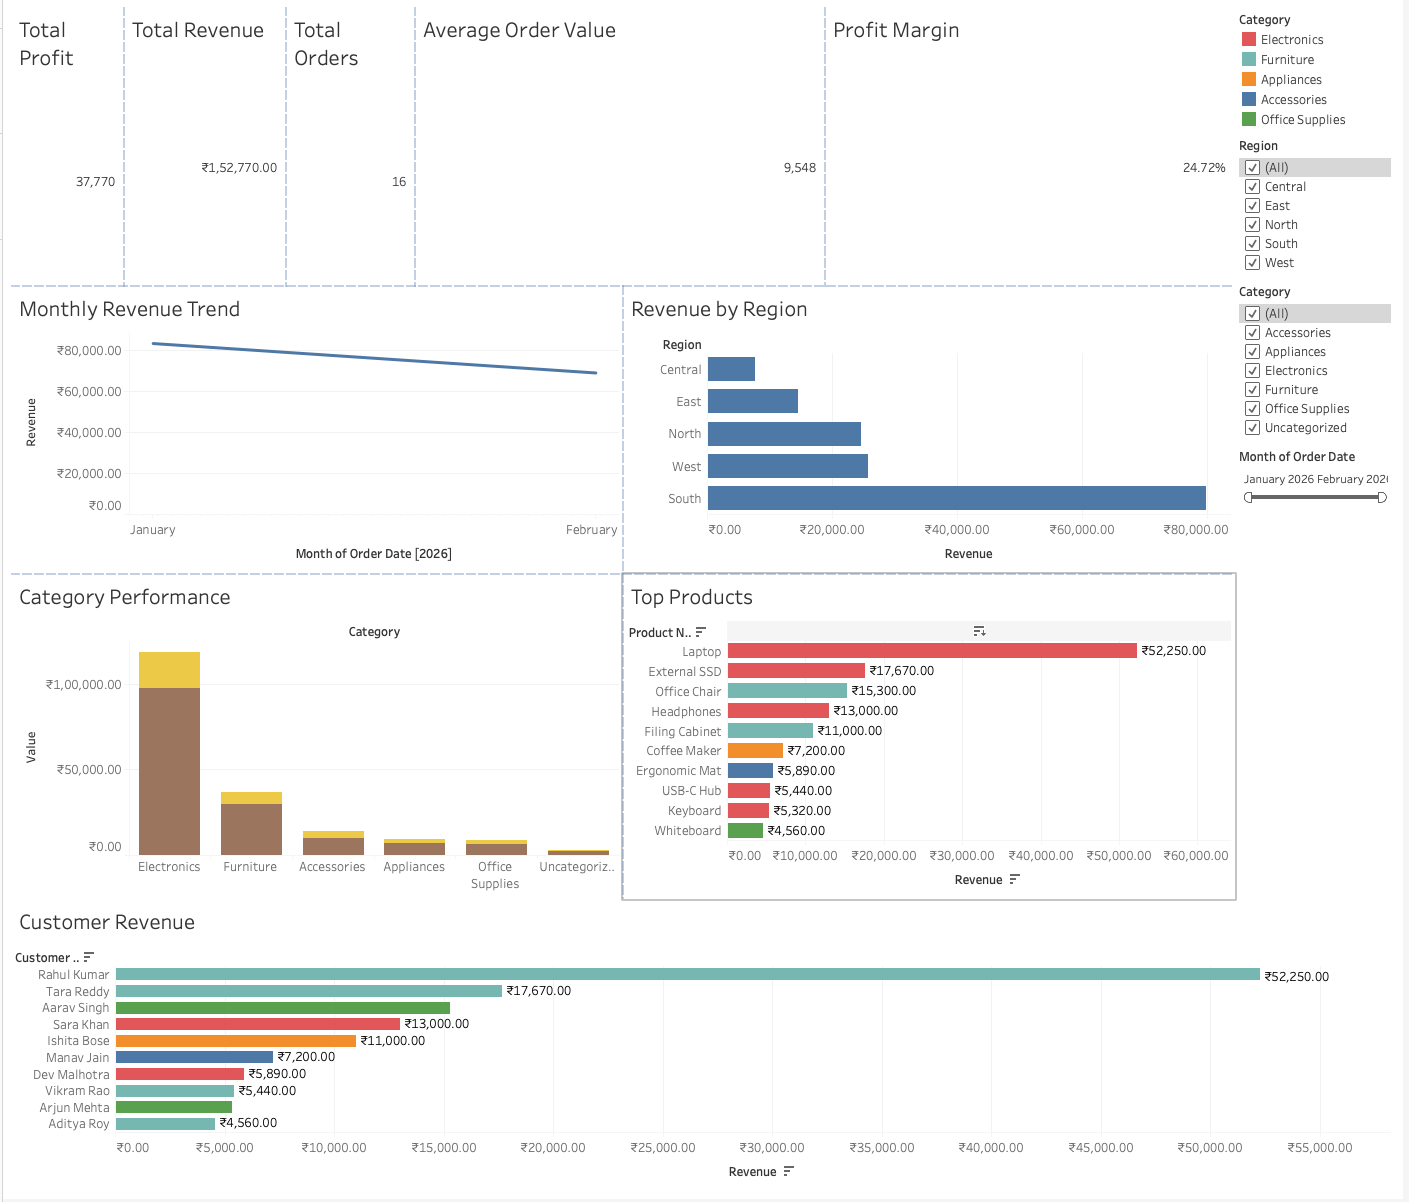

What the dashboard file says about the page in this screenshot:
{"tool":"tableau","page":{"name":"Sales Analytics Dashboard","canvas":[1400,1200],"ordinal":0},"visuals":[{"type":"worksheet","title":"Total Profit","mark":"Automatic","box":[8,8,113.2,279.5]},{"type":"worksheet","title":"Total Revenue","mark":"Automatic","box":[121.2,8,161.7,279.5]},{"type":"worksheet","title":"Total Orders","mark":"Automatic","box":[282.9,8,129.4,279.5]},{"type":"worksheet","title":"Average Order Value","mark":"Automatic","box":[412.3,8,409.9,279.5]},{"type":"worksheet","title":"Profit Margin","mark":"Automatic","box":[822.1,8,409.9,279.5]},{"type":"legend","title":"Top Products","param":"[federated.0lyqzue10ufyjs126acsf0x3rjmx].[none:Category:nk]","box":[1232,8,160,126]},{"type":"filter","title":"Revenue by Region","param":"[federated.0lyqzue10ufyjs126acsf0x3rjmx].[none:Region:nk]","box":[1232,134,160,146]},{"type":"filter","title":"Category Performance","param":"[federated.0lyqzue10ufyjs126acsf0x3rjmx].[none:Category:nk]","box":[1232,280,160,165]},{"type":"worksheet","title":"Monthly Revenue Trend","mark":"Line","rows":["Revenue"],"cols":["Order_Date"],"box":[8,287.5,612,287.1]},{"type":"worksheet","title":"Revenue by Region","mark":"Bar","rows":["Region"],"cols":["Revenue"],"box":[620,287.5,612,287.1]},{"type":"filter","title":"Monthly Revenue Trend","param":"[federated.0lyqzue10ufyjs126acsf0x3rjmx].[tmn:Order_Date:qk]","box":[1232,445,160,231]},{"type":"worksheet","title":"Category Performance","mark":"Bar","cols":["Category"],"box":[8,574.6,612,325.4]},{"type":"worksheet","title":"Top Products","mark":"Bar","rows":["Product_Name"],"cols":["Revenue"],"box":[620,574.6,612,325.4]},{"type":"worksheet","title":"Customer Revenue","mark":"Bar","rows":["Customer_Name"],"cols":["Revenue"],"box":[8,900,1384,292]}]}

Visuals, with their boxes in screenshot pixels (x1, y1, x2, y2), scaled from the page's 1400x1200 canvas onto the 1409x1202 screenshot:
"Total Profit" worksheet: select_region(8, 8, 122, 288)
"Total Revenue" worksheet: select_region(122, 8, 285, 288)
"Total Orders" worksheet: select_region(285, 8, 415, 288)
"Average Order Value" worksheet: select_region(415, 8, 827, 288)
"Profit Margin" worksheet: select_region(827, 8, 1240, 288)
"Top Products" legend: select_region(1240, 8, 1401, 134)
"Revenue by Region" filter: select_region(1240, 134, 1401, 280)
"Category Performance" filter: select_region(1240, 280, 1401, 446)
"Monthly Revenue Trend" worksheet (Line marks): select_region(8, 288, 624, 576)
"Revenue by Region" worksheet (Bar marks): select_region(624, 288, 1240, 576)
"Monthly Revenue Trend" filter: select_region(1240, 446, 1401, 677)
"Category Performance" worksheet (Bar marks): select_region(8, 576, 624, 902)
"Top Products" worksheet (Bar marks): select_region(624, 576, 1240, 902)
"Customer Revenue" worksheet (Bar marks): select_region(8, 902, 1401, 1194)
